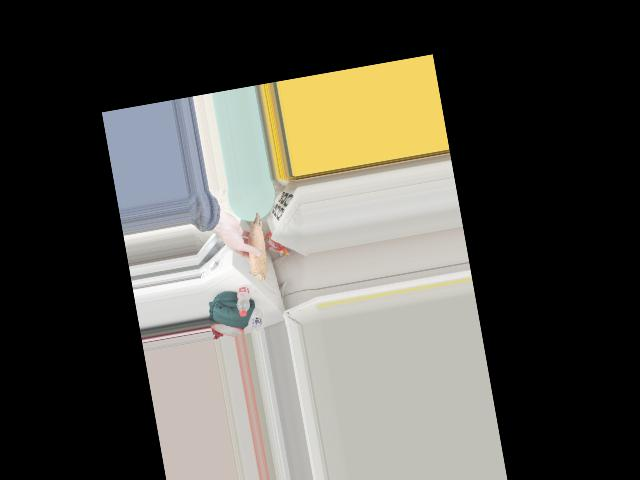sweet_potato: (240, 211, 276, 279)
